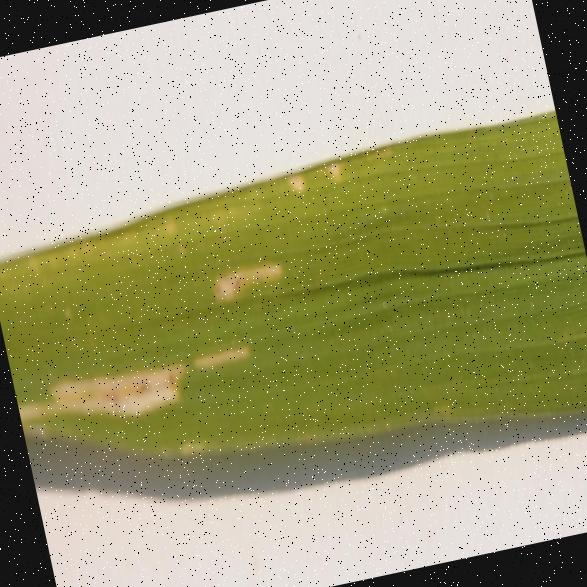Bacteria_Leaf_Blight: (0, 118, 417, 339), (9, 300, 282, 491)
